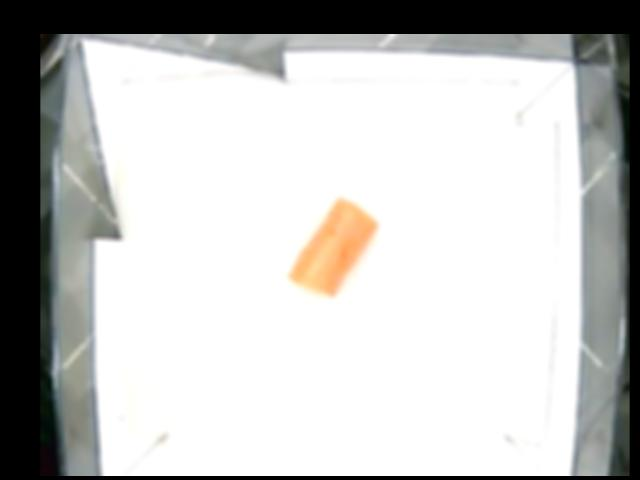Carrot: (288, 196, 379, 298)
